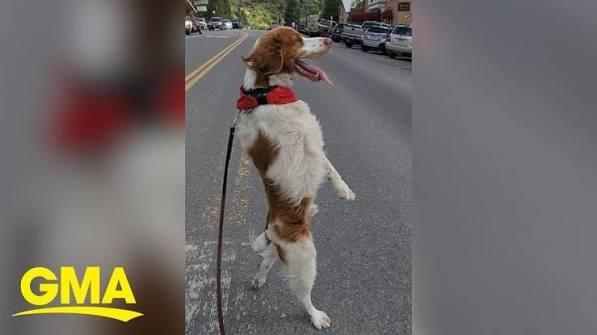adult_dog: (231, 27, 356, 329)
